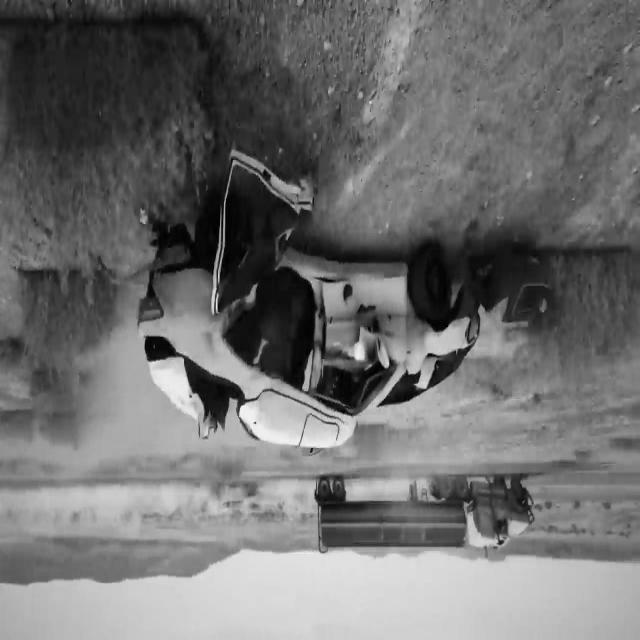severe: (133, 142, 487, 452)
